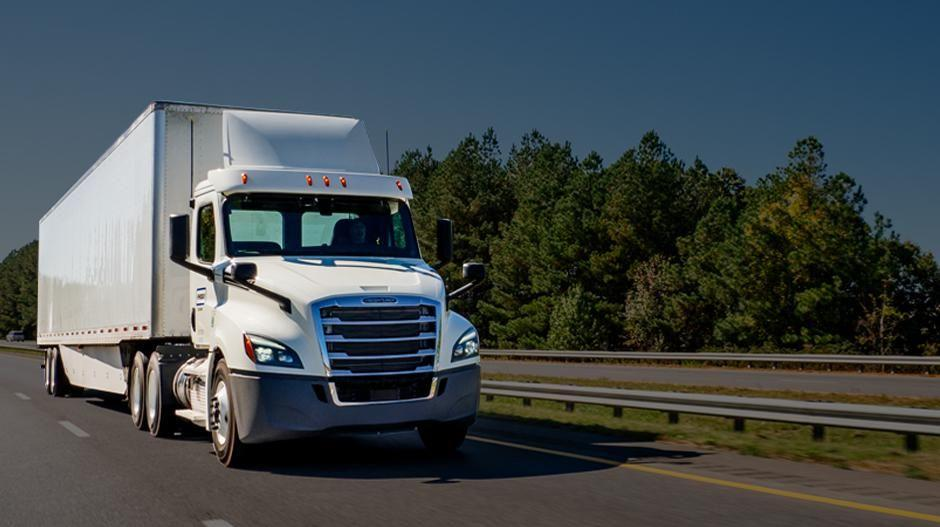truck: (36, 101, 485, 467)
